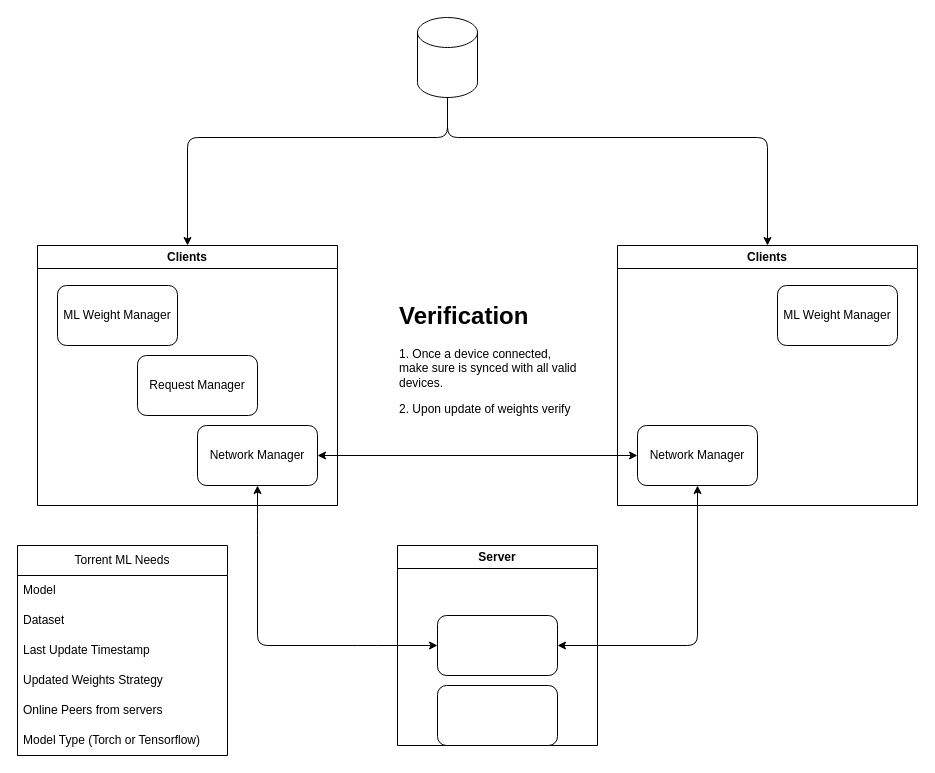
This 935x773 diagram has some shape labels left out. The shapes that lost their labels are listed below. From the top down, each one's centre as x and y in pixels, then its label:
(447,57): Model File
(497,645): Golang Websocket Connection
(497,715): Centralized Clock for Timestamps
